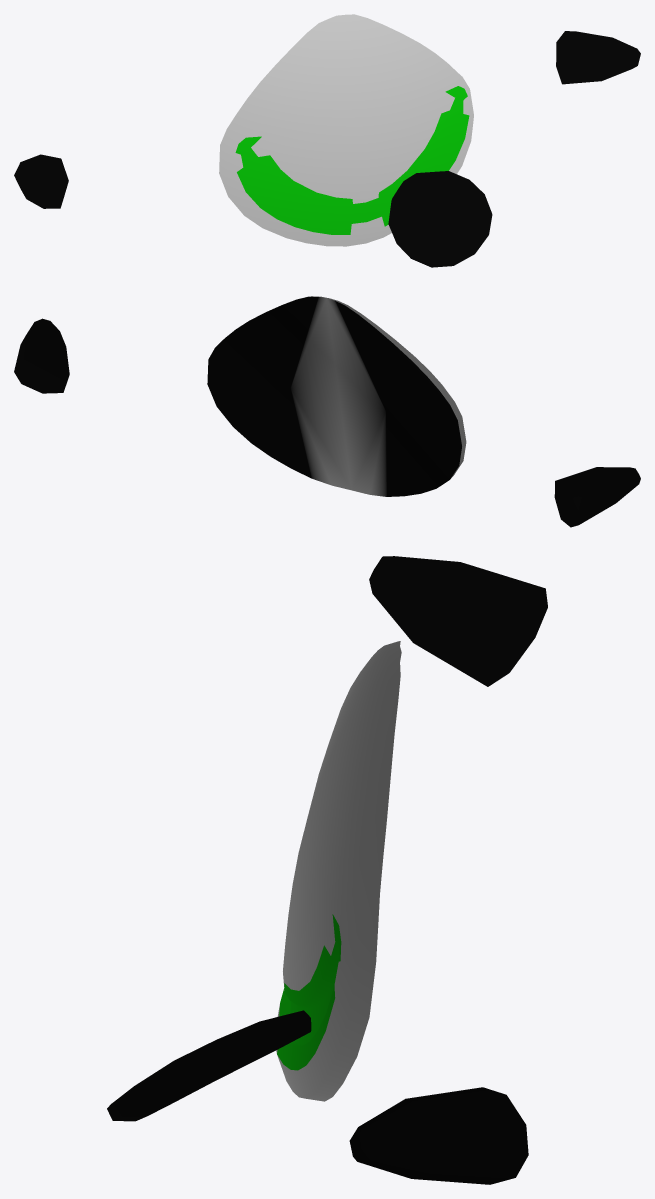
Rendered from S00_Plant08_L2_Mouth.glb.
3 renders of one model, top to bottom at view 1: azimuth 30°, elevation 25°; view 2: azimuth 150°, elevation 25°; view 3: azimuth 270°, elevation 25°, orthographic. The views are drawn at different scales.
Parts seen in each view (by area): view 1: S00_Plant08_L2_Mouth__Mouth_M__surface0__lod0; view 2: S00_Plant08_L2_Mouth__Mouth_M__surface0__lod0; view 3: S00_Plant08_L2_Mouth__Mouth_M__surface0__lod0.
Part boxes in pixels (x1,y1,x2,y2): S00_Plant08_L2_Mouth__Mouth_M__surface0__lod0: [14, 14, 640, 267]; S00_Plant08_L2_Mouth__Mouth_M__surface0__lod0: [14, 296, 640, 527]; S00_Plant08_L2_Mouth__Mouth_M__surface0__lod0: [107, 556, 547, 1184].
Bounding box in the file's own units: 76.12 × 25.42 × 24.11.
